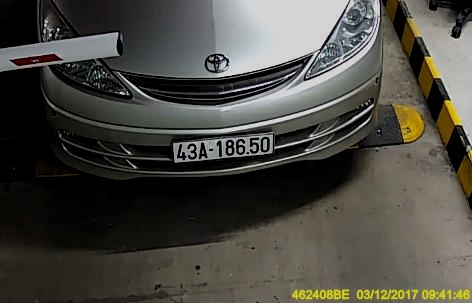plate: (171, 132, 275, 163)
